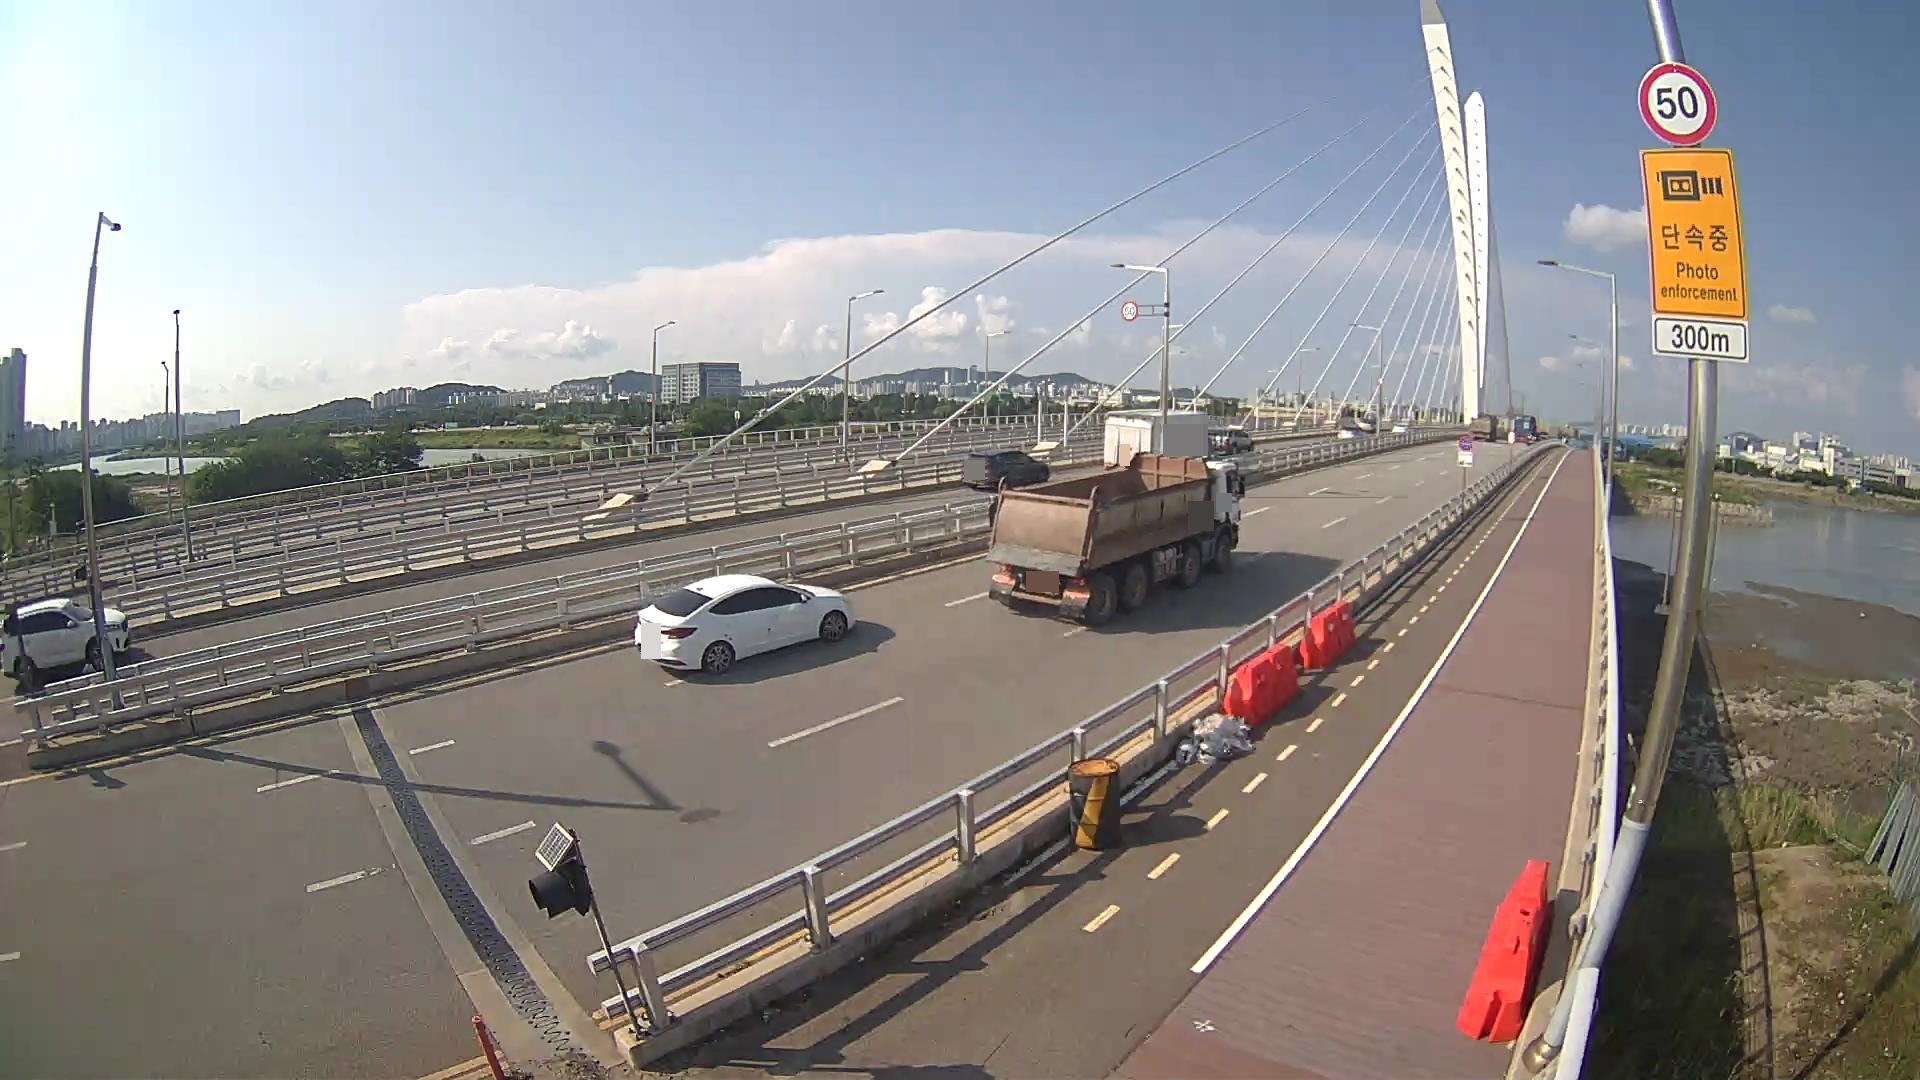정상차량: (983, 453, 1247, 629)
